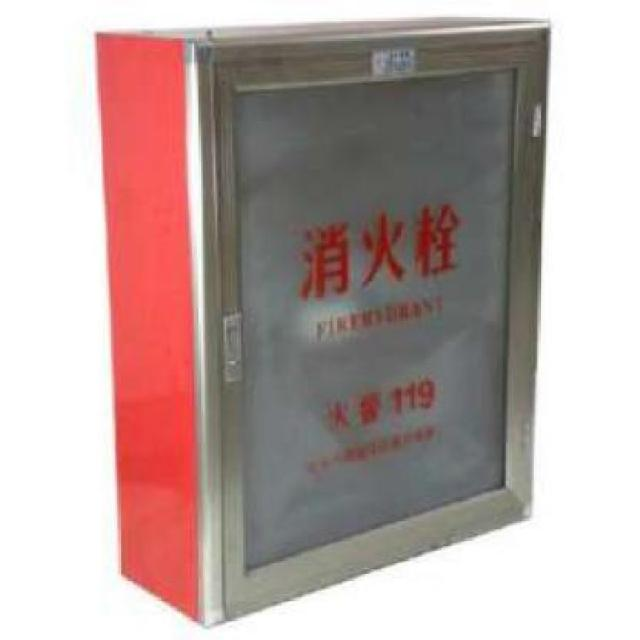firehydrant: (89, 8, 557, 632)
